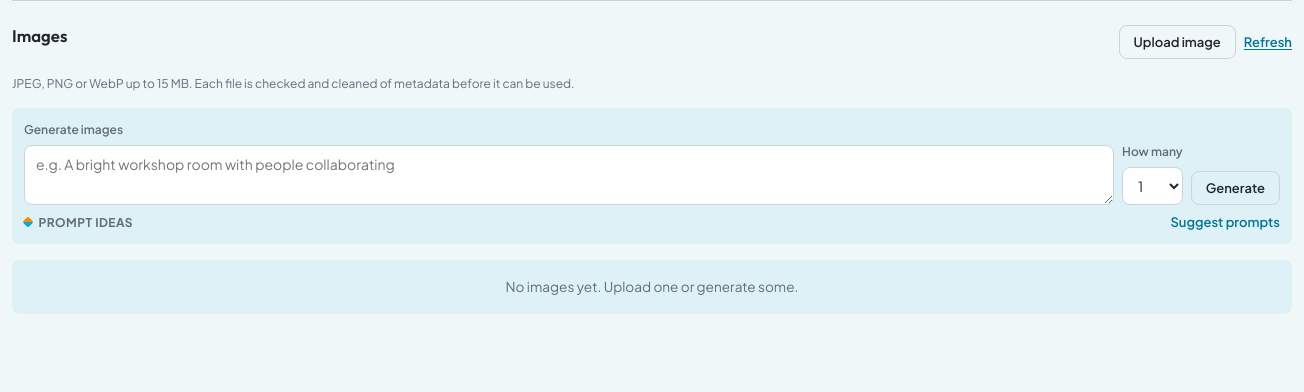
Scenario: AssetLibrary › suggests prompts on request and fills the prompt with the picked one
This screenshot has width=1304, height=392.
Click the button "Suggest prompts". click: (1225, 222)
box: [1170,214,1280,230]
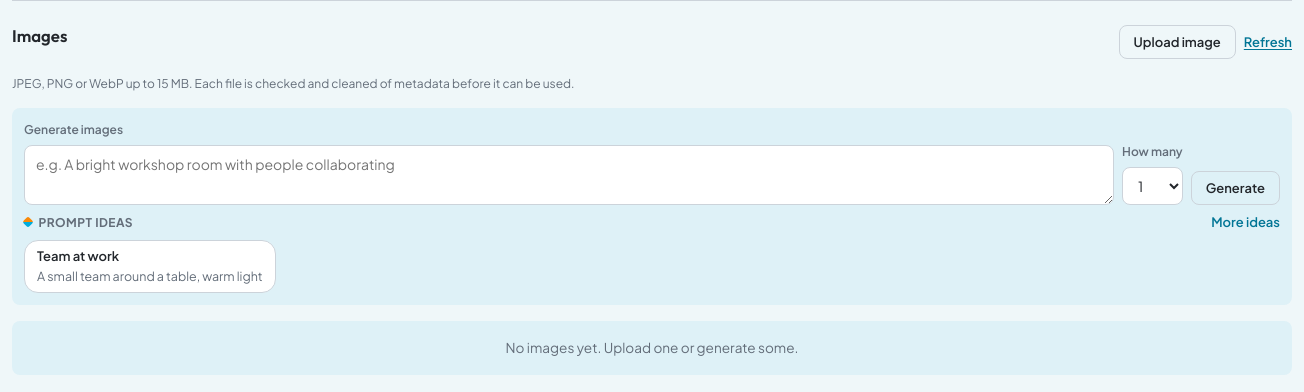
Click the button "Team at work A small team around a table, warm light". click: (150, 266)
box: [24,240,276,293]
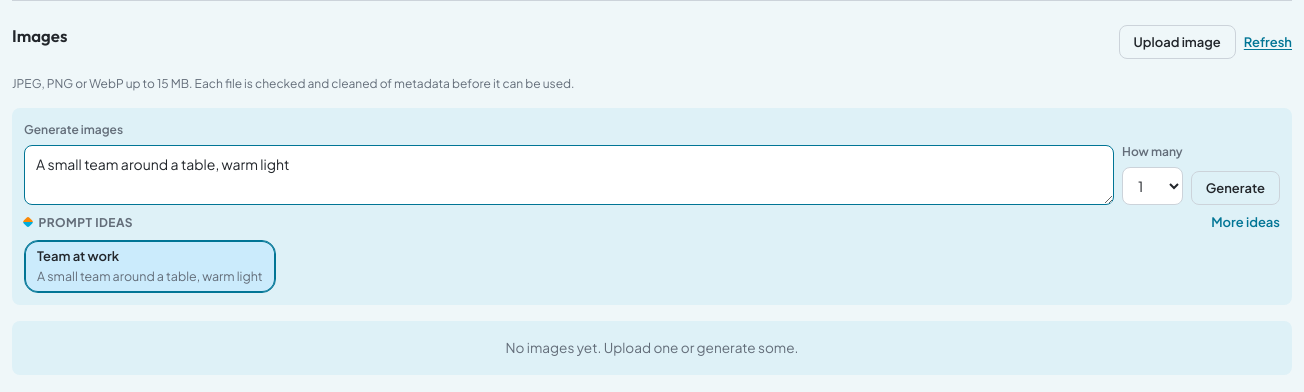
Now the text box labelled "Generate images" holds "A small team around a table, warm light", box [24,145,1114,205]
